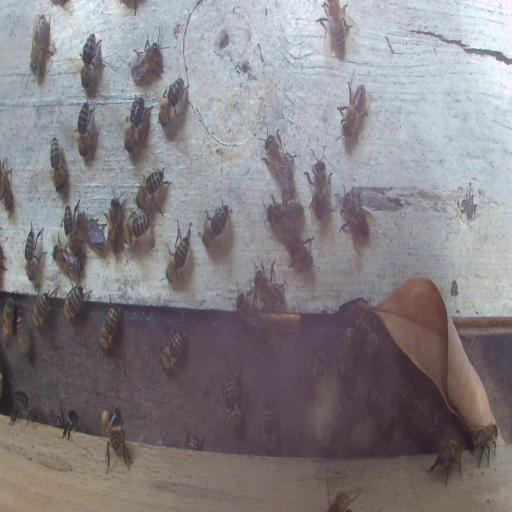nonpollenbee: (333, 74, 374, 152), (338, 182, 372, 253), (305, 143, 331, 224), (316, 0, 353, 55), (164, 217, 193, 287), (128, 32, 169, 81), (427, 435, 464, 488), (135, 165, 172, 215), (28, 9, 53, 82), (263, 128, 296, 182), (470, 421, 504, 469), (200, 199, 232, 250), (281, 226, 314, 275), (80, 32, 106, 94), (252, 262, 286, 308), (75, 99, 98, 166), (234, 289, 265, 337), (222, 368, 244, 432), (158, 79, 189, 124), (98, 294, 122, 350), (123, 95, 145, 156), (24, 221, 46, 281), (159, 326, 186, 372), (106, 425, 132, 472), (355, 314, 379, 360), (105, 196, 126, 248), (397, 386, 424, 426), (76, 207, 104, 244), (366, 390, 393, 428), (308, 350, 328, 401), (123, 211, 152, 246), (269, 198, 303, 227), (49, 135, 65, 193), (339, 326, 356, 379), (10, 390, 36, 424), (53, 246, 80, 278), (32, 289, 52, 331), (63, 284, 86, 320), (60, 204, 78, 250), (0, 156, 14, 214), (16, 308, 31, 358), (263, 398, 275, 452), (62, 405, 80, 440), (2, 298, 15, 342), (52, 409, 62, 428)
pollenbee: (100, 408, 120, 436)
